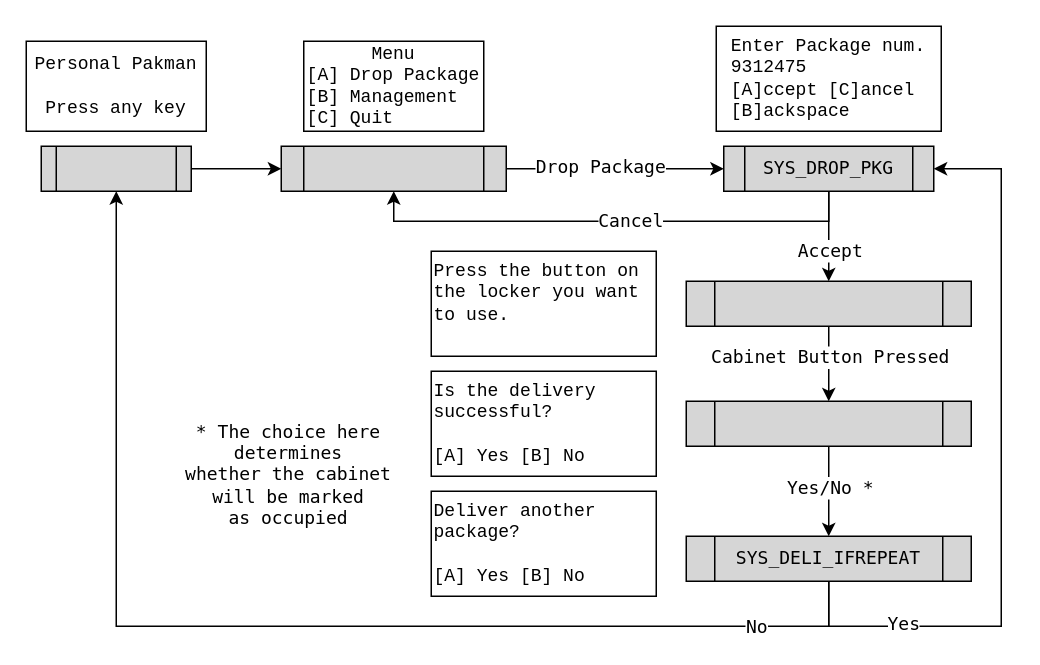
This 1040x665 diagram has some shape labels left out. Each missing label, with the centre of its shape:
"SYS_CHOOSE_OP" belongs at point (393, 168).
"SYS_DELI_OKFAIL" belongs at point (828, 423).
"SYS_DELI_WAIT_CHOICE" belongs at point (828, 303).
"SYS_IDLE" belongs at point (115, 168).
